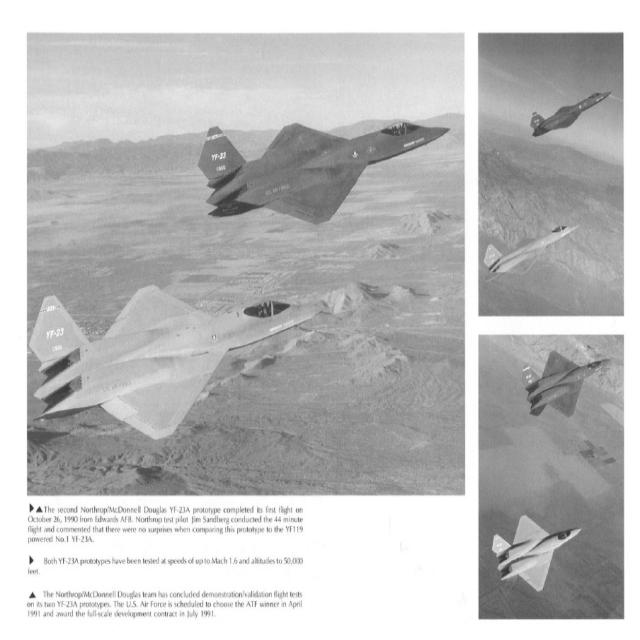MIL_Plane: (28, 284, 328, 440), (197, 122, 451, 225), (491, 514, 582, 592), (521, 350, 612, 417), (483, 224, 580, 284), (530, 91, 612, 138)
